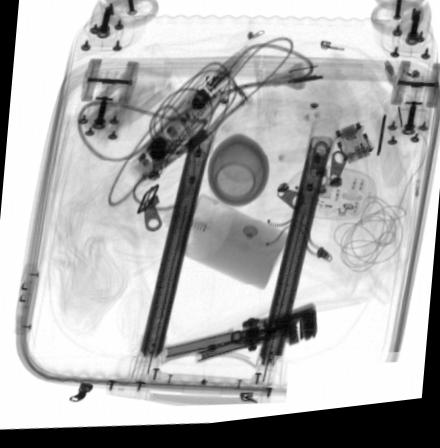Pliers: (163, 314, 318, 369)
